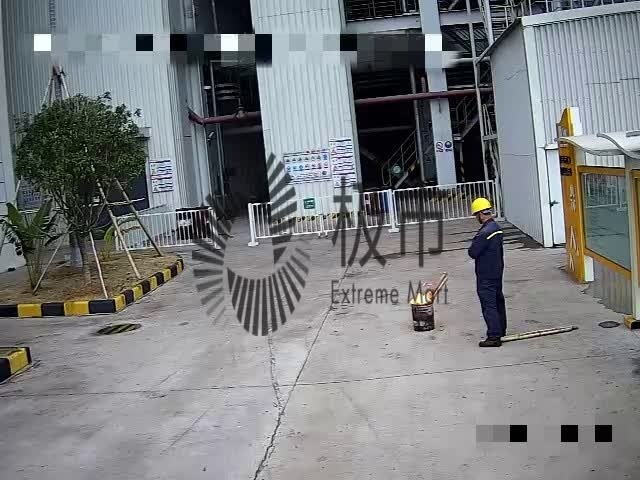fire: (408, 281, 440, 308)
